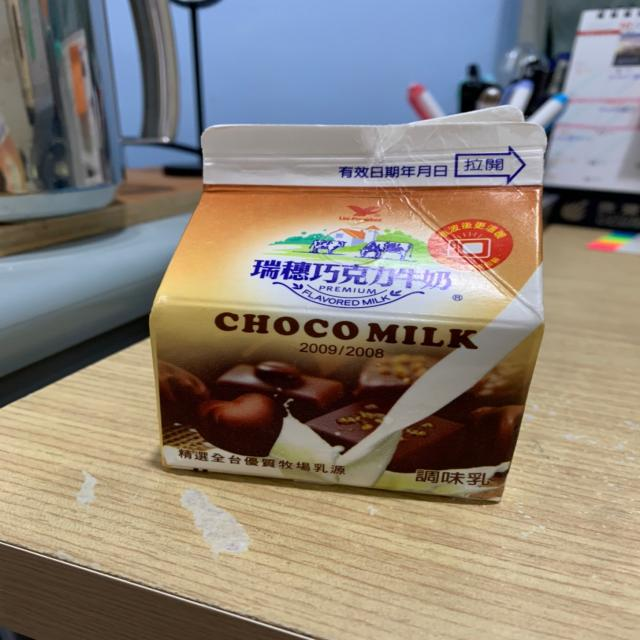non_white_jug: (122, 87, 577, 488)
